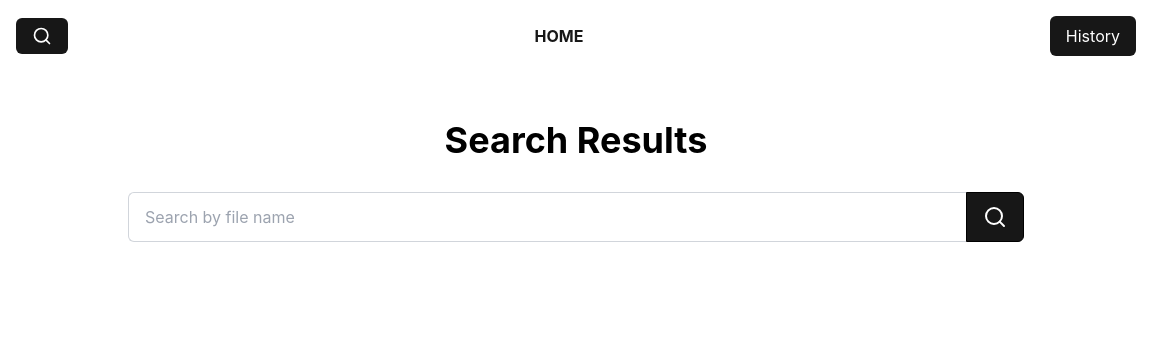
Search Component › displays an error message when the search fails
Type "test" into the field with placeholder "Search by file name". click: (547, 217)
box: [128,192,966,242]
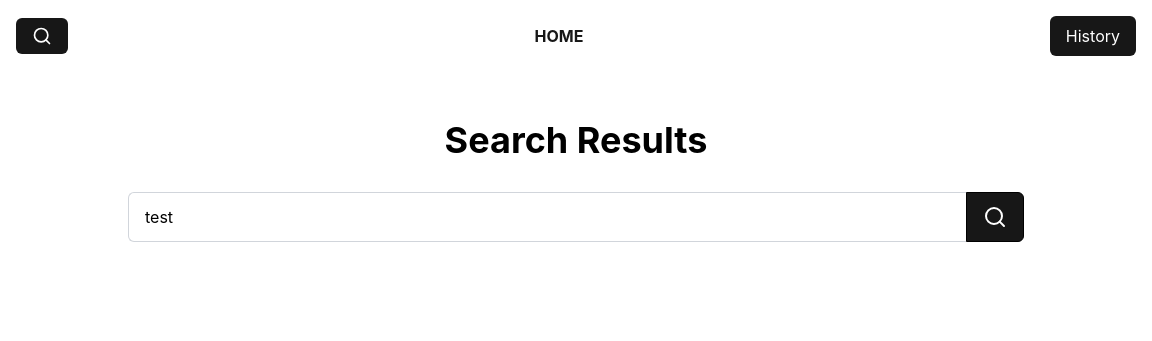
Click the button named "search". click: (995, 217)
box: [966,192,1024,242]
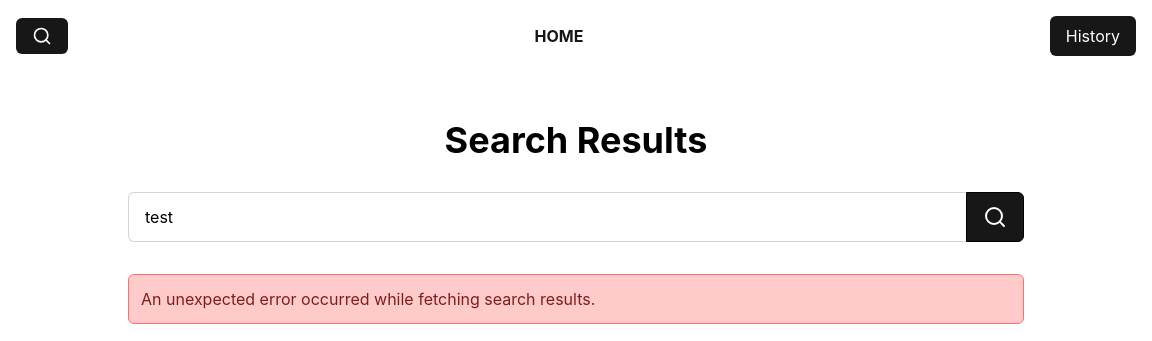
Check: the text "An unexpected error occurred while fetching search results." is shown, box [128,274,1024,324]
